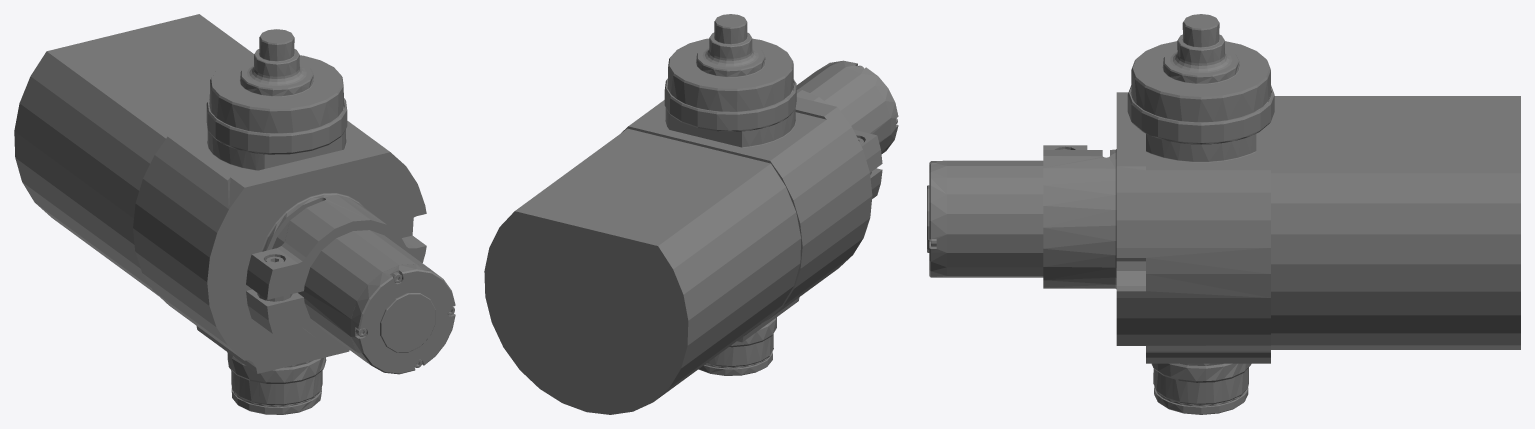
Rendered from wrist_link.dae.
3 renders of one model, left to right at view 1: azimuth 30°, elevation 25°; view 2: azimuth 150°, elevation 25°; view 3: azimuth 270°, elevation 25°, orthographic. The views are drawn at different scales.
Parts seen in each view (by area): view 1: node; view 2: node; view 3: node.
Boxes of the visible parts, x1=… form: node: x1=14, y1=14, x2=455, y2=414; node: x1=484, y1=14, x2=898, y2=414; node: x1=927, y1=14, x2=1520, y2=414.
Size of the model in its own units: 0.18 by 0.281 by 0.404.
Materials: 1 (1 with a texture image).
